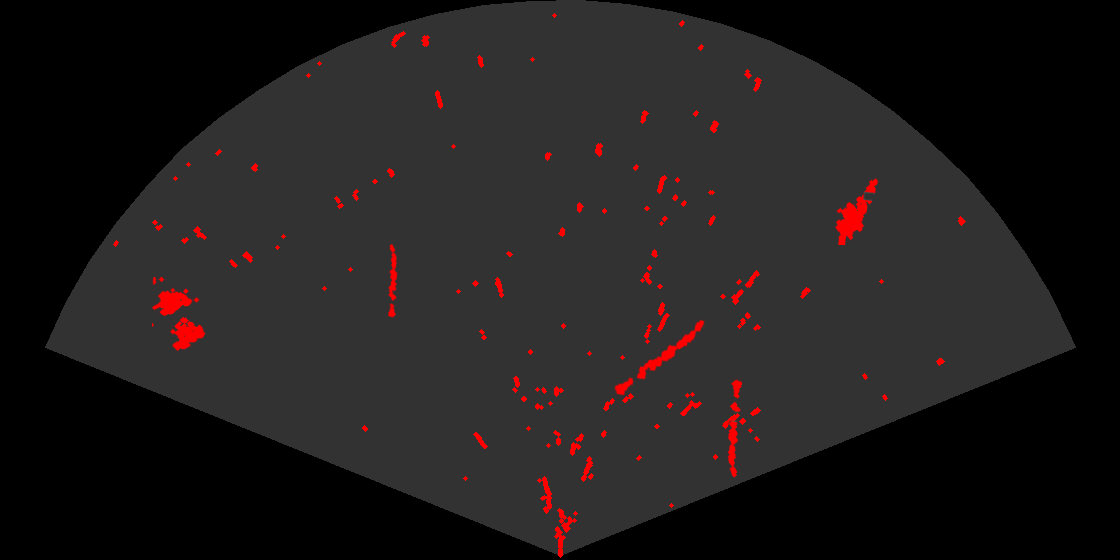cage: (152, 277, 207, 353)
chain: (613, 318, 706, 397), (726, 377, 744, 479), (387, 242, 399, 318)
frogman: (834, 177, 879, 245)
